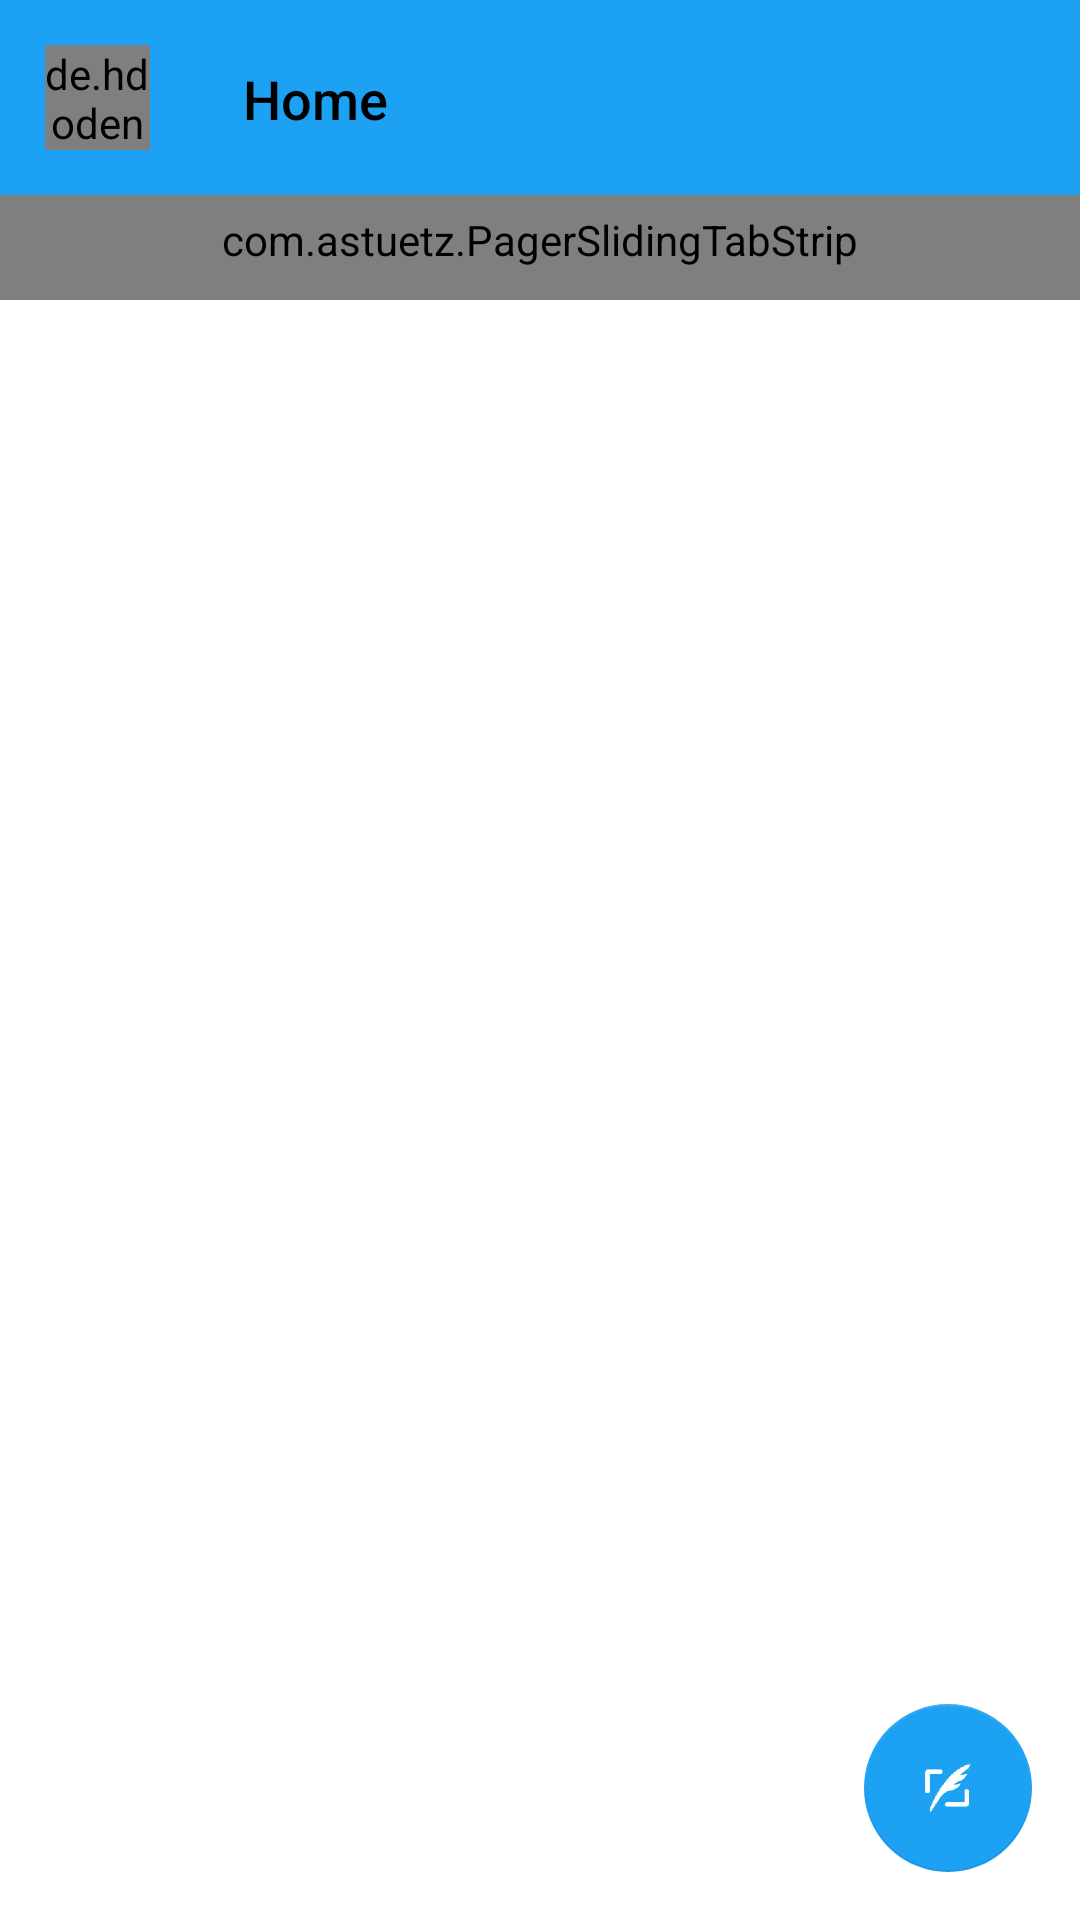

Icons on this 1080 × 1920 Android screen, each with the point to tap as point (x, y):
compose: point (948, 1788)
